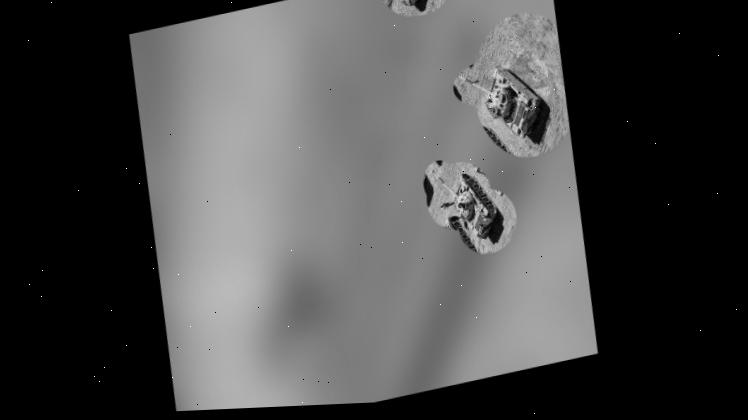armored_car: (379, 0, 427, 13)
tank: (446, 48, 554, 155), (427, 161, 508, 252)
